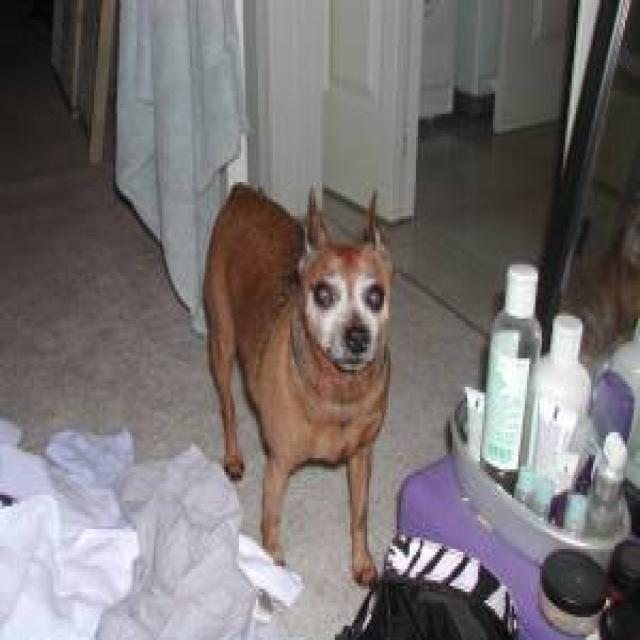dog-miniature_pinscher: (198, 176, 399, 592)
